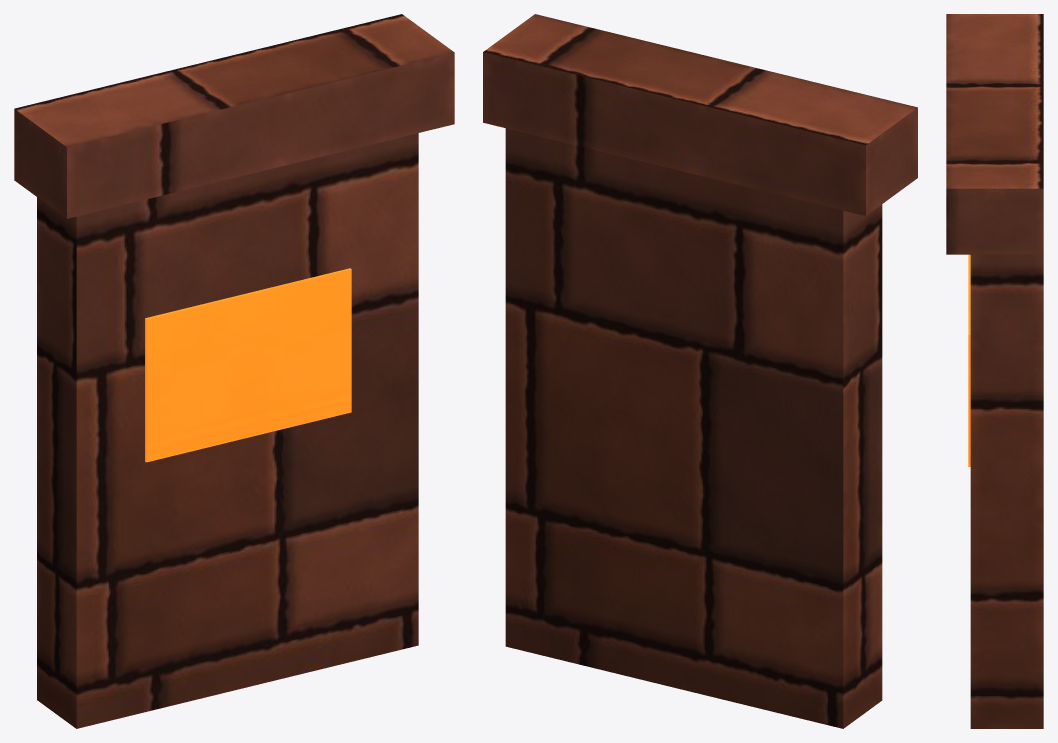
Rendered from forge_mouth.glb.
3 views of the same model, side by side, from view 1: azimuth 30°, elevation 25°; view 2: azimuth 150°, elevation 25°; view 3: azimuth 270°, elevation 25° (orthographic). The views are drawn at different scales.
Parts seen in each view (by area): view 1: props_0_0; view 2: props_0_0; view 3: props_0_0.
Boxes of the visible parts, box(x1,y1,x2,y2) form: props_0_0: box(14, 14, 454, 728); props_0_0: box(483, 14, 917, 728); props_0_0: box(946, 14, 1043, 728).
Bounding box in the file's own units: 1.7 × 2.5 × 0.4.
Materials: 1 (1 with a texture image).
